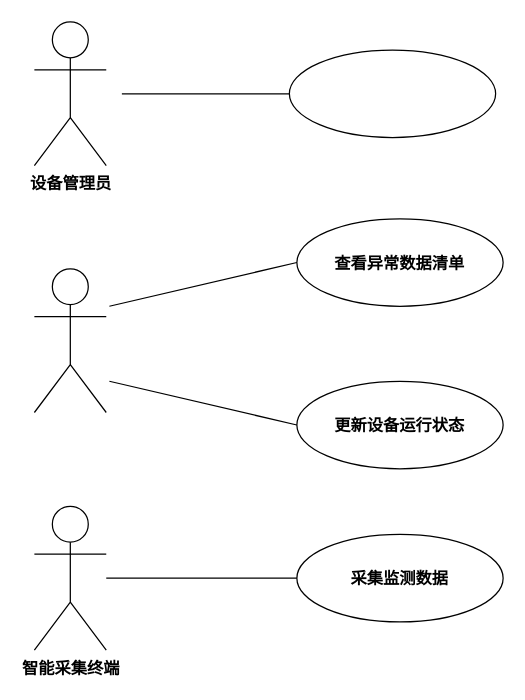
The diagram is 525 pixels wide and 700 high, and some of its shapes have lost their labels. The centre of each missing label's shape, as x and y in pixels:
"管理变压器设备" goes at (x=392, y=93).
"运维人员" goes at (x=69, y=340).
